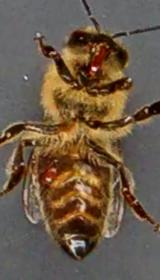varroa_mite: (34, 158, 62, 195)
